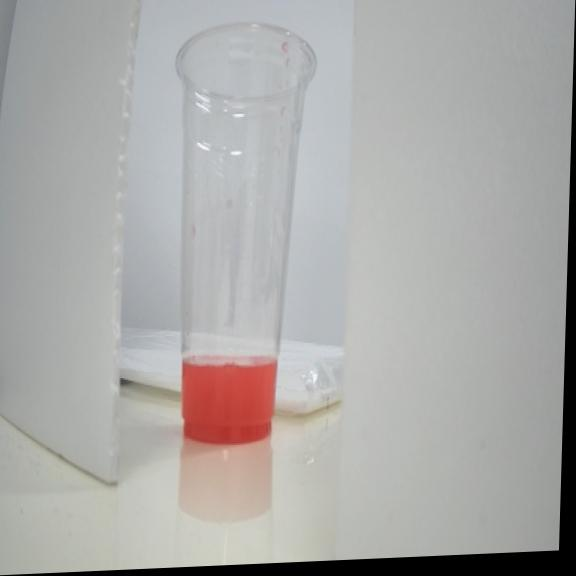Plastik: (177, 24, 316, 444)
